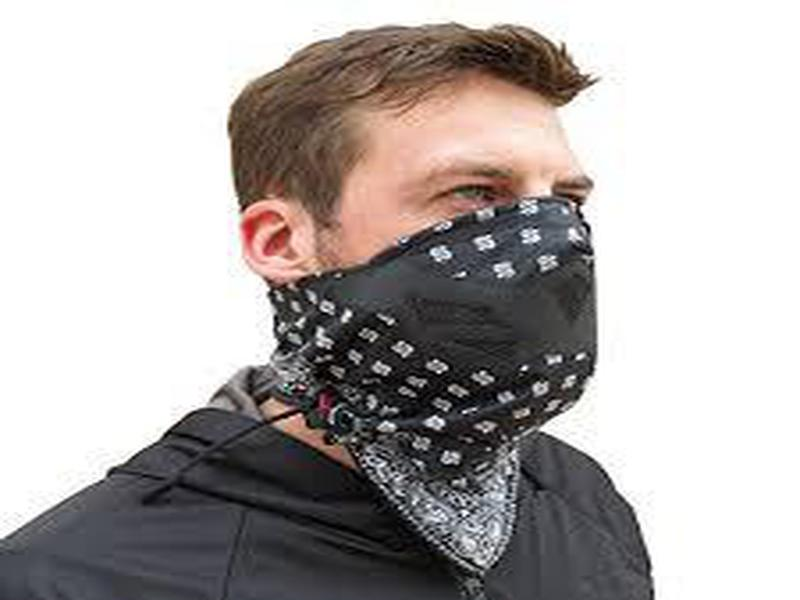with_mask: (228, 19, 606, 571)
